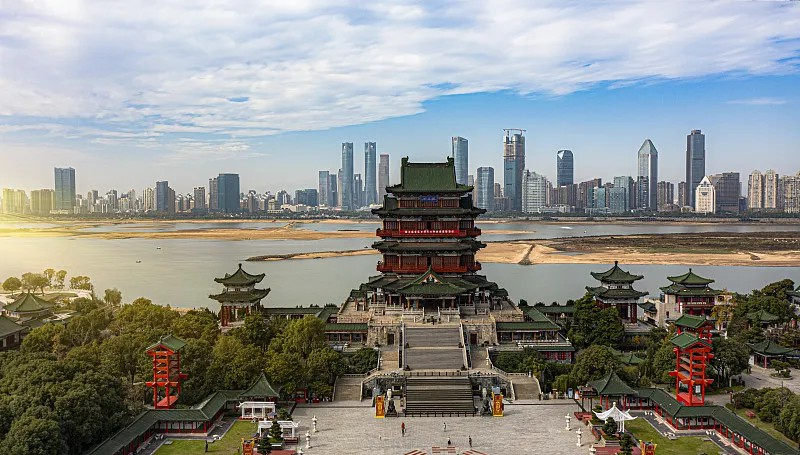Teng: (350, 155, 508, 313)
